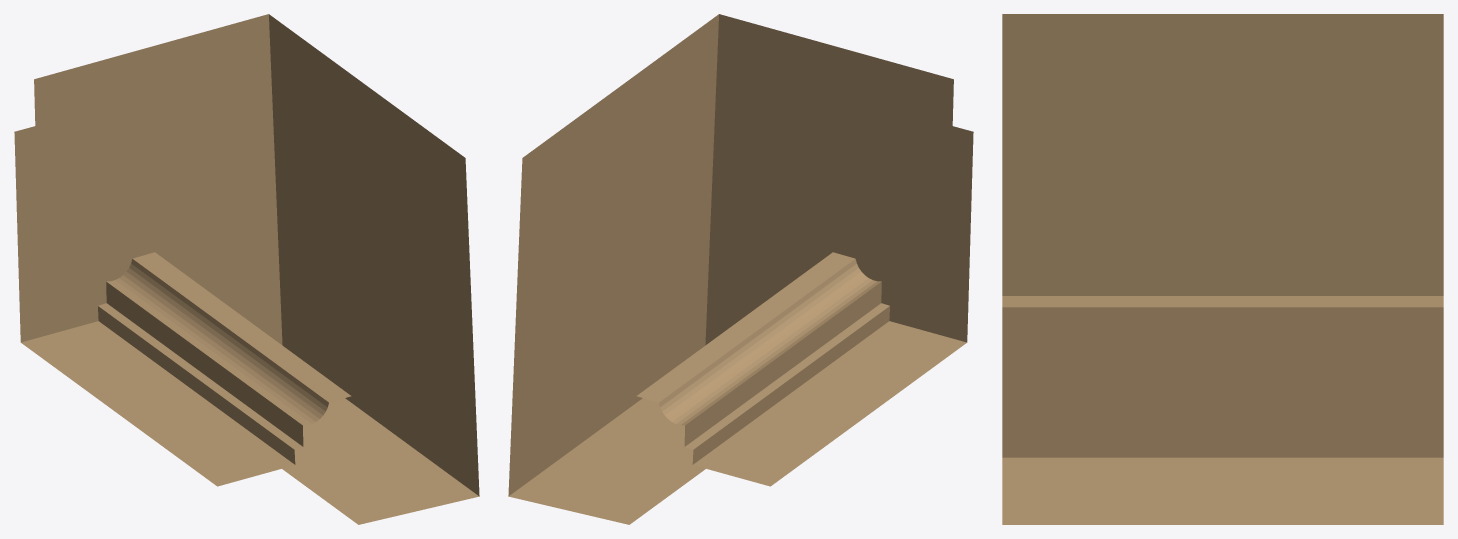
3 views of the same model, side by side, from view 1: azimuth 30°, elevation 25°; view 2: azimuth 150°, elevation 25°; view 3: azimuth 270°, elevation 25° (orthographic). The views are drawn at different scales.
Parts seen in each view (by area): view 1: 0_0_3_2_1_0_3_2_3; view 2: 0_0_3_2_1_0_3_2_3; view 3: 0_0_3_2_1_0_3_2_3.
Boxes of the visible parts, left/top/right/bottom form: 0_0_3_2_1_0_3_2_3: left=14, top=14, right=479, bottom=524; 0_0_3_2_1_0_3_2_3: left=508, top=14, right=973, bottom=524; 0_0_3_2_1_0_3_2_3: left=1002, top=14, right=1443, bottom=524.
Bounding box in the file's own units: 18.9 × 23.02 × 24.
